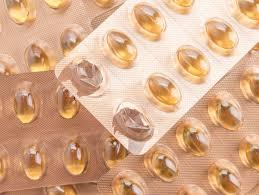pill_Strip: (56, 0, 258, 153), (98, 53, 258, 194), (0, 71, 109, 191), (137, 0, 258, 98), (157, 0, 257, 98), (0, 0, 123, 72), (0, 122, 106, 191), (0, 71, 91, 143), (0, 0, 89, 72), (157, 0, 257, 46), (0, 71, 65, 130), (223, 55, 257, 112), (213, 0, 258, 31), (176, 118, 210, 156), (144, 144, 178, 181), (83, 0, 124, 29), (91, 2, 122, 29), (60, 24, 86, 55), (3, 0, 36, 24), (112, 170, 146, 193), (240, 67, 257, 102), (6, 185, 63, 194), (91, 7, 116, 27), (0, 53, 18, 74), (7, 188, 46, 194), (76, 183, 97, 194), (7, 188, 45, 194), (7, 188, 43, 194), (90, 0, 117, 7), (246, 185, 258, 194), (251, 43, 258, 52)
